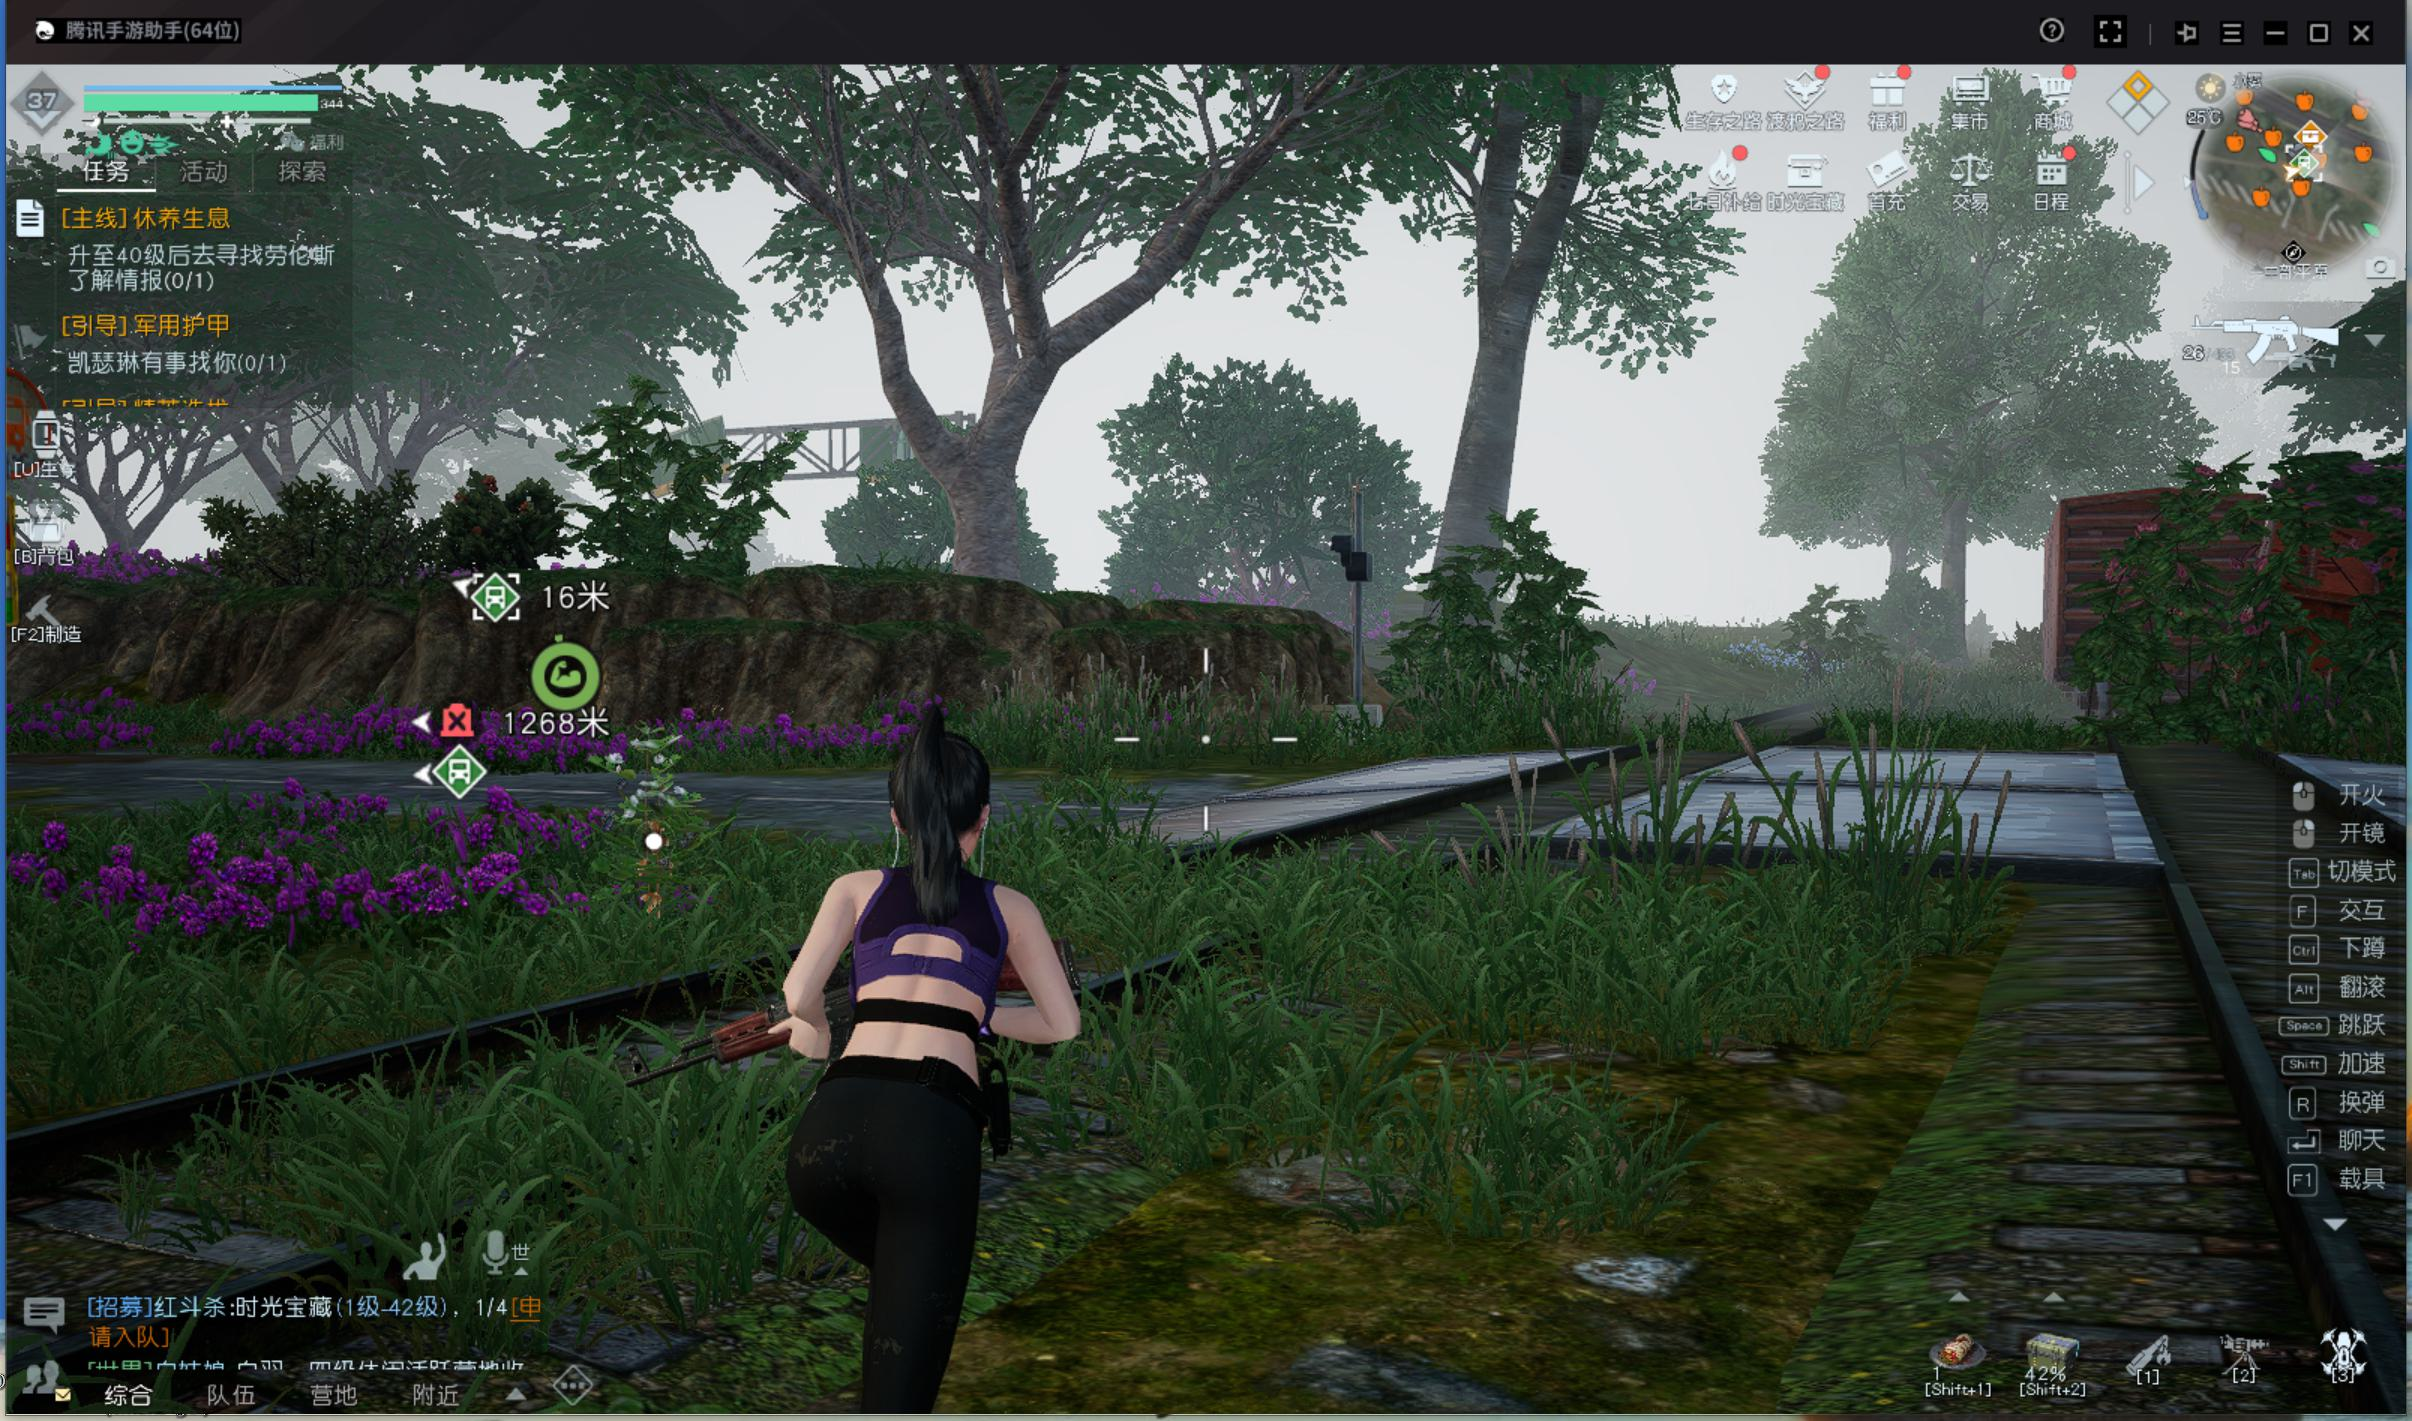tree: (1429, 311, 1539, 668), (924, 425, 1055, 602), (1916, 506, 1984, 665)
